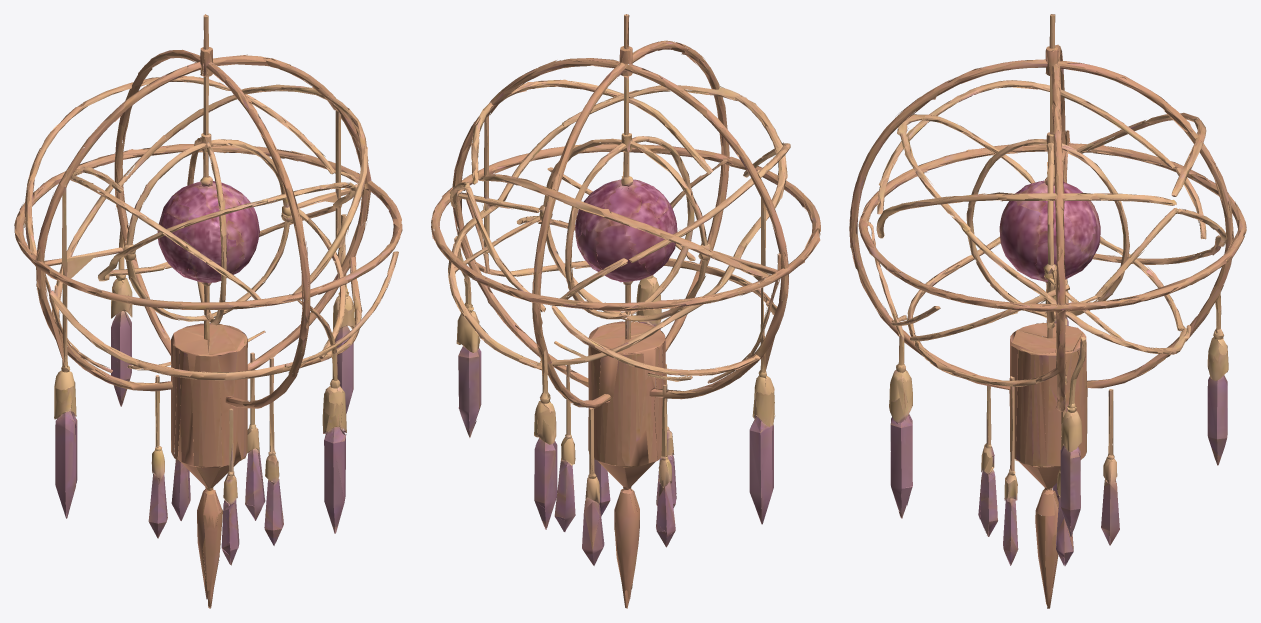
Rendered from chandelier.glb.
The picture shows the model from 3 angles, left to right: view 1: azimuth 30°, elevation 25°; view 2: azimuth 150°, elevation 25°; view 3: azimuth 270°, elevation 25°; orthographic projection.
Parts seen in each view (by area): view 1: room_chandelier; view 2: room_chandelier; view 3: room_chandelier.
Part boxes in pixels (x1=…): room_chandelier: x1=14, y1=14, x2=402, y2=608; room_chandelier: x1=431, y1=14, x2=820, y2=608; room_chandelier: x1=849, y1=14, x2=1246, y2=608.
Bounding box in the file's own units: 0.7752 × 1.3 × 0.7892.
1 material, 1 textured.
